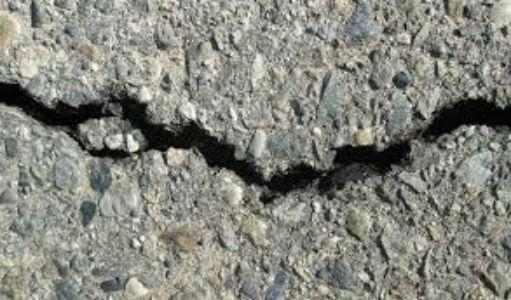crack: (3, 79, 511, 204)
